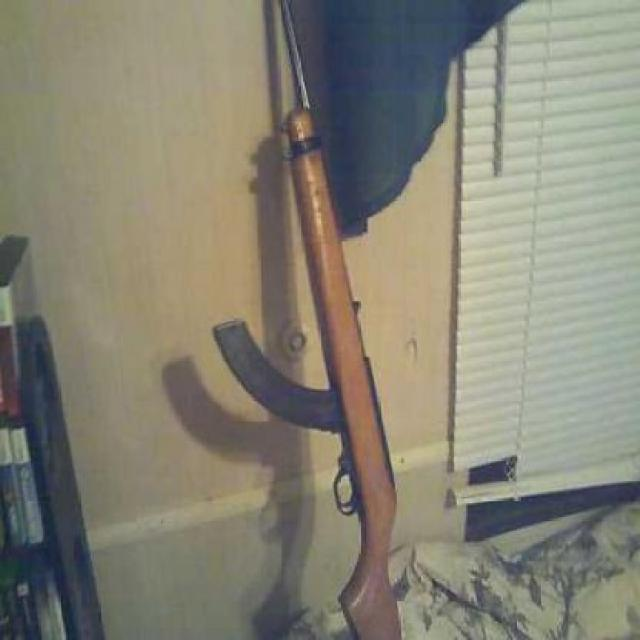weapon: (212, 0, 404, 640)
